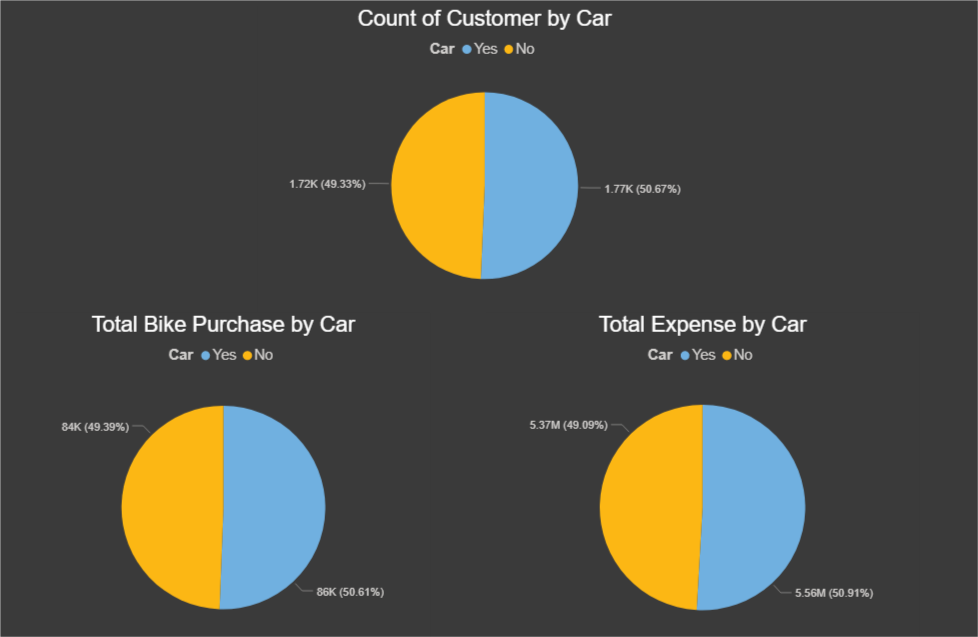

Layout of this report page (visuals, bound fields, positions):
{"tool":"powerbi","page":{"name":"TransactionsCar","canvas":[1280,720],"ordinal":0},"visuals":[{"type":"pieChart","title":"Count of Customer by Car","fields":{"Y":["CountNonNull(TransactionsCar.customer_id)"],"Series":["TransactionsCar.owns_car"]},"box":[477,11,499.1,336.9],"z":0},{"type":"pieChart","title":"Total Bike Purchase by Car","fields":{"Y":["Sum(TransactionsCar.past_3_years_bike_related_purchases)"],"Series":["TransactionsCar.owns_car"]},"box":[211,347.9,455,371.6],"z":1000},{"type":"pieChart","title":"Total Expense by Car","fields":{"Y":["Sum(TransactionsCar.total_expense)"],"Series":["TransactionsCar.owns_car"]},"box":[727.4,347.9,475.5,371.6],"z":2000}]}

Visuals, with their boxes on the page's 1280x720 design canvas (x1, y1, x2, y2). These are canvas units, not pixel positions in the 978x637 screenshot, which may show the page scaled, cropped or inside an application window:
"Count of Customer by Car" pieChart: detection(477, 11, 976, 348)
"Total Bike Purchase by Car" pieChart: detection(211, 348, 666, 720)
"Total Expense by Car" pieChart: detection(727, 348, 1203, 720)
